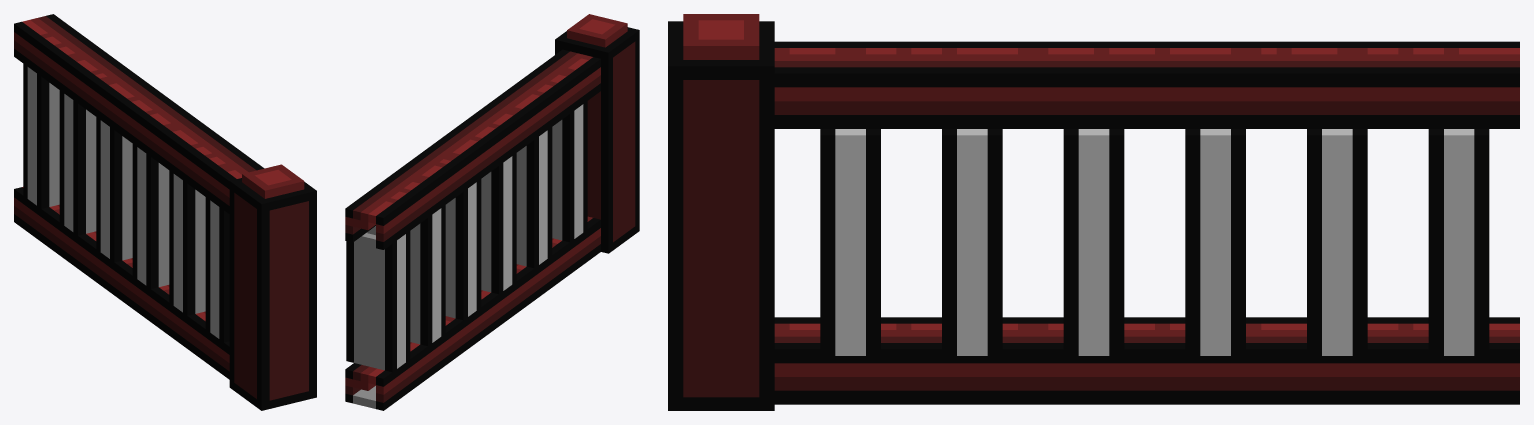
File: PlayerStairsP3.obj
The picture shows the model from 3 angles, left to right: view 1: azimuth 30°, elevation 25°; view 2: azimuth 150°, elevation 25°; view 3: azimuth 270°, elevation 25°; orthographic projection. The views are drawn at different scales.
Visible parts, largest first — view 1: PlayerStairsP3; view 2: PlayerStairsP3; view 3: PlayerStairsP3.
Boxes of the visible parts, <box> form: PlayerStairsP3: <box>14,14,316,410</box>; PlayerStairsP3: <box>345,14,639,410</box>; PlayerStairsP3: <box>668,14,1519,410</box>.
Size of the model in its own units: 0.7 by 2.6 by 5.6.
1 material, 1 textured.
